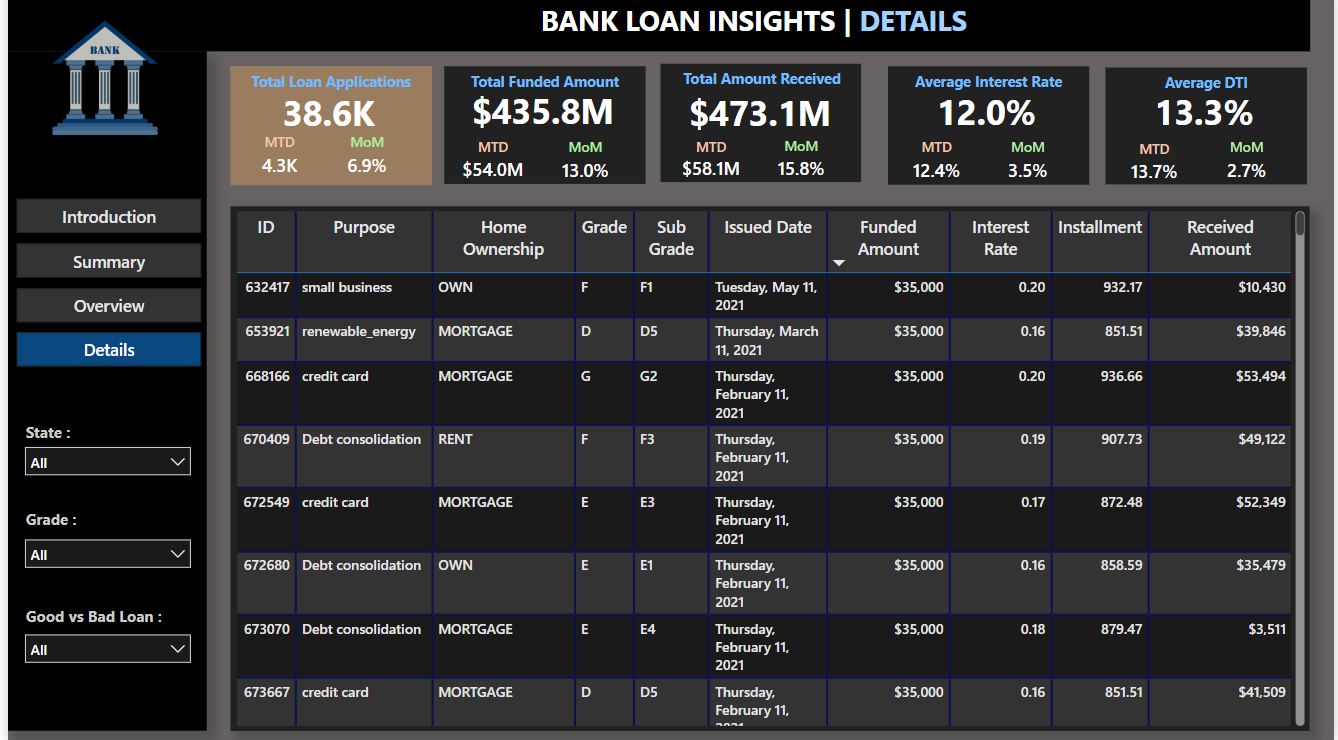

The page's visual inventory and layout, read from the dashboard file:
{"tool":"powerbi","page":{"name":"Details","canvas":[1280,720],"ordinal":3},"visuals":[{"type":"shape","box":[629.2,66.4,193.8,114.2],"z":0,"group":"g3"},{"type":"shape","box":[214.3,68.6,194.3,114.3],"z":0,"group":"g1"},{"type":"shape","box":[421.4,68.6,194.5,114],"z":0,"group":"g2"},{"type":"shape","box":[848.8,68.6,194.2,114.3],"z":0,"group":"g4"},{"type":"shape","box":[1059.3,69.8,194.5,113.1],"z":0,"group":"g5"},{"type":"shape","box":[214.7,203.7,1041.9,506.5],"z":0},{"type":"shape","box":[0,0,1257,54.7],"z":1000},{"type":"card","fields":{"Values":["table_measures.total_loan_appl"]},"box":[247.2,83.2,124.3,61.3],"z":1000,"group":"g1"},{"type":"card","fields":{"Values":["table_measures.total_funded_amt"]},"box":[433.2,83.2,165.9,58.4],"z":1000,"group":"g2"},{"type":"card","fields":{"Values":["table_measures.avg_interest_rate"]},"box":[860.6,83.2,165.6,58.6],"z":1000,"group":"g4"},{"type":"card","fields":{"Values":["table_measures.avg_DTI"]},"box":[1071.1,84.3,165.9,57.9],"z":1000,"group":"g5"},{"type":"card","fields":{"Values":["table_measures.total_received_amt"]},"box":[643.2,85.3,163.1,55.8],"z":1000,"group":"g3"},{"type":"shape","box":[0,54.7,191.9,655.8],"z":2000},{"type":"textbox","box":[632.2,67,191,41.6],"z":2000,"group":"g3"},{"type":"textbox","box":[214.3,68.6,194.3,39],"z":2000,"group":"g1"},{"type":"textbox","box":[421.4,68.6,194.5,38.9],"z":2000,"group":"g2"},{"type":"textbox","box":[848.8,68.6,194.2,39],"z":2000,"group":"g4"},{"type":"textbox","box":[1059.3,69.8,194.5,38.6],"z":2000,"group":"g5"},{"type":"card","title":"MTD","fields":{"Values":["table_measures.MTD_loan_appl"]},"box":[235.7,132.7,51.4,50.2],"z":3000,"group":"g1"},{"type":"card","title":"MTD","fields":{"Values":["table_measures.MTD_received_amt"]},"box":[643.2,137.1,68.9,46.5],"z":3000,"group":"g3"},{"type":"card","title":"MTD","fields":{"Values":["table_measures.MTD_funded_amt"]},"box":[433.2,137.4,70.1,48.6],"z":3000,"group":"g2"},{"type":"card","title":"MTD","fields":{"Values":["table_measures.MTD_interest_rate"]},"box":[860.6,137.6,70,48.8],"z":3000,"group":"g4"},{"type":"card","title":"MTD","fields":{"Values":["table_measures.MTD_avg_DTI"]},"box":[1071.1,138.1,70.1,48.3],"z":3000,"group":"g5"},{"type":"textbox","box":[12.4,406,119.7,38.5],"z":3000},{"type":"textbox","box":[509.2,1.4,447.3,49.5],"z":4000},{"type":"card","title":"MoM","fields":{"Values":["table_measures.MOM_loan_appl"]},"box":[320,132.7,51.4,50.2],"z":4000,"group":"g1"},{"type":"card","title":"MoM","fields":{"Values":["table_measures.MOM_received_amt"]},"box":[736.7,136.9,56.8,47.5],"z":4000,"group":"g3"},{"type":"card","title":"MoM","fields":{"Values":["table_measures.MOM_funded_amt"]},"box":[528.3,137.2,57.8,49.7],"z":4000,"group":"g2"},{"type":"card","title":"MoM","fields":{"Values":["table_measures.MOM_interest_rate"]},"box":[955.6,137.4,57.7,49.8],"z":4000,"group":"g4"},{"type":"card","title":"MoM","fields":{"Values":["table_measures.MOM_avg_DTI"]},"box":[1166.2,137.9,57.8,49.3],"z":4000,"group":"g5"},{"type":"group","id":"g1","title":"Group 1","box":[214.3,68.6,194.3,114.3],"z":5000},{"type":"group","id":"g2","title":"Group 1","box":[421.4,68.6,194.3,118],"z":6000},{"type":"group","id":"g3","title":"Group 1","box":[629.2,66.4,194,118],"z":7000},{"type":"group","id":"g4","title":"Group 1","box":[848.8,68.6,194.2,118.6],"z":8000},{"type":"group","id":"g5","title":"Group 1","box":[1059.3,69.8,194.2,117.4],"z":9000},{"type":"slicer","fields":{"Values":["financial_loan.address_state"]},"box":[5.5,425.3,180.3,50.9],"z":10000},{"type":"slicer","fields":{"Values":["financial_loan.grade"]},"box":[5.5,514.8,180.3,50.9],"z":11000},{"type":"textbox","box":[12.4,491.4,119.7,38.5],"z":12000},{"type":"slicer","fields":{"Values":["financial_loan.Good vs Band Loan"]},"box":[5.5,607,180.3,50.9],"z":13000},{"type":"textbox","box":[12.4,583.6,163.8,38.5],"z":14000},{"type":"tableEx","fields":{"Values":["financial_loan.id","financial_loan.purpose","financial_loan.home_ownership","financial_loan.grade","financial_loan.sub_grade","financial_loan.issue_date","table_measures.total_funded_amt","Sum(financial_loan.int_rate)","Sum(financial_loan.installment)","table_measures.total_received_amt"]},"box":[214.7,203.7,1041.9,506.5],"z":15000},{"type":"pageNavigator","box":[8.3,196.8,178.9,163.8],"z":16000},{"type":"image","box":[0,1.4,187.2,156.9],"z":17000}]}

Visuals, with their boxes in screenshot pixels (x1, y1, x2, y2), scaled from the page's 1280x720 canvas onto the 1338x740 screenshot:
shape: (x1=658, y1=68, x2=860, y2=186)
shape: (x1=224, y1=71, x2=427, y2=188)
shape: (x1=440, y1=71, x2=644, y2=188)
shape: (x1=887, y1=71, x2=1090, y2=188)
shape: (x1=1107, y1=72, x2=1311, y2=188)
shape: (x1=224, y1=209, x2=1314, y2=730)
shape: (x1=0, y1=0, x2=1314, y2=56)
card - table_measures.total_loan_appl: (x1=258, y1=86, x2=388, y2=149)
card - table_measures.total_funded_amt: (x1=453, y1=86, x2=626, y2=146)
card - table_measures.avg_interest_rate: (x1=900, y1=86, x2=1073, y2=146)
card - table_measures.avg_DTI: (x1=1120, y1=87, x2=1293, y2=146)
card - table_measures.total_received_amt: (x1=672, y1=88, x2=843, y2=145)
shape: (x1=0, y1=56, x2=201, y2=730)
textbox: (x1=661, y1=69, x2=861, y2=112)
textbox: (x1=224, y1=71, x2=427, y2=111)
textbox: (x1=440, y1=71, x2=644, y2=110)
textbox: (x1=887, y1=71, x2=1090, y2=111)
textbox: (x1=1107, y1=72, x2=1311, y2=111)
"MTD" card: (x1=246, y1=136, x2=300, y2=188)
"MTD" card: (x1=672, y1=141, x2=744, y2=189)
"MTD" card: (x1=453, y1=141, x2=526, y2=191)
"MTD" card: (x1=900, y1=141, x2=973, y2=192)
"MTD" card: (x1=1120, y1=142, x2=1193, y2=192)
textbox: (x1=13, y1=417, x2=138, y2=457)
textbox: (x1=532, y1=1, x2=1000, y2=52)
"MoM" card: (x1=334, y1=136, x2=388, y2=188)
"MoM" card: (x1=770, y1=141, x2=829, y2=190)
"MoM" card: (x1=552, y1=141, x2=613, y2=192)
"MoM" card: (x1=999, y1=141, x2=1059, y2=192)
"MoM" card: (x1=1219, y1=142, x2=1279, y2=192)
"Group 1" group: (x1=224, y1=71, x2=427, y2=188)
"Group 1" group: (x1=440, y1=71, x2=644, y2=192)
"Group 1" group: (x1=658, y1=68, x2=861, y2=190)
"Group 1" group: (x1=887, y1=71, x2=1090, y2=192)
"Group 1" group: (x1=1107, y1=72, x2=1310, y2=192)
slicer - financial_loan.address_state: (x1=6, y1=437, x2=194, y2=489)
slicer - financial_loan.grade: (x1=6, y1=529, x2=194, y2=581)
textbox: (x1=13, y1=505, x2=138, y2=545)
slicer - financial_loan.Good vs Band Loan: (x1=6, y1=624, x2=194, y2=676)
textbox: (x1=13, y1=600, x2=184, y2=639)
tableEx - financial_loan.id x financial_loan.purpose: (x1=224, y1=209, x2=1314, y2=730)
pageNavigator: (x1=9, y1=202, x2=196, y2=371)
image: (x1=0, y1=1, x2=196, y2=163)
